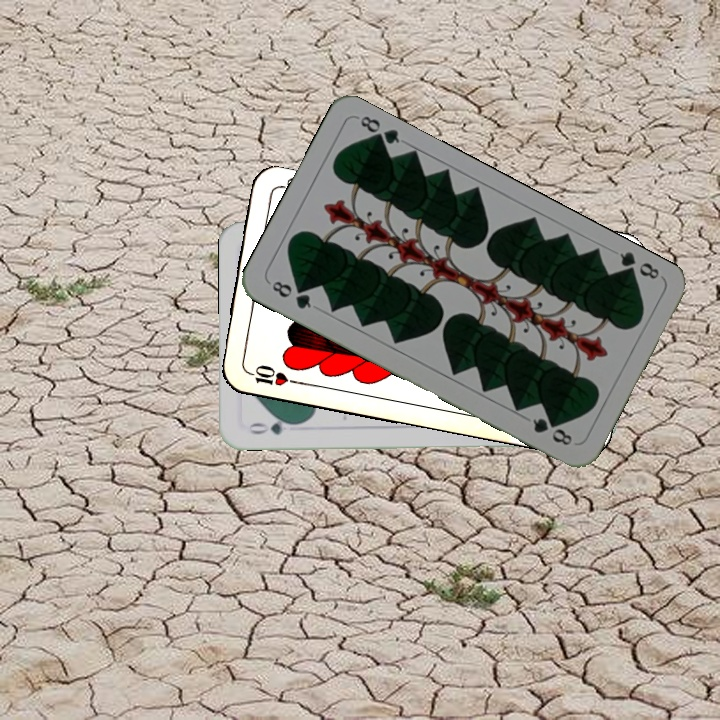G8: (615, 247, 662, 283), (267, 277, 314, 312)
GO: (245, 415, 303, 438)
H10: (242, 360, 301, 389)
